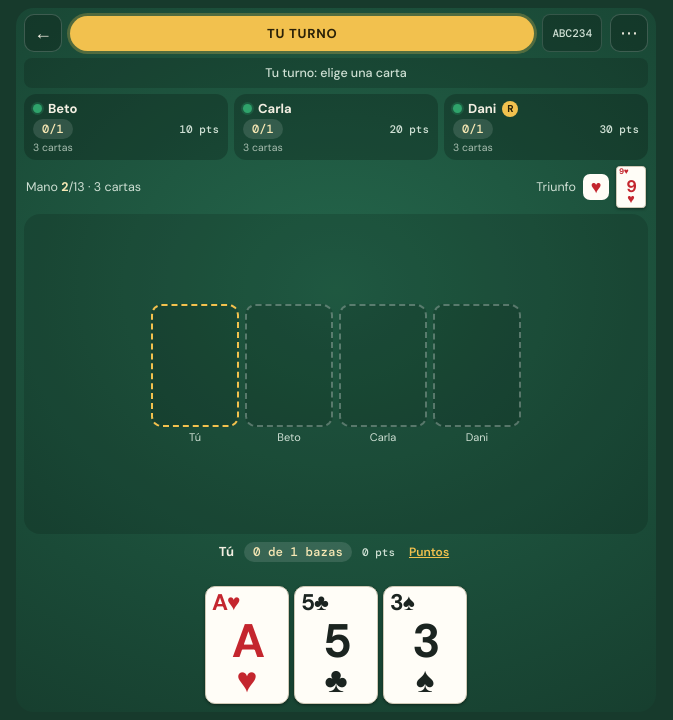
Scenario: mesa: menú, reglas, sonido y puntuación › el interruptor de sonido cambia entre activado y desactivado
Click the button named "Más opciones": click(629, 33) 610,14 -> 648,52
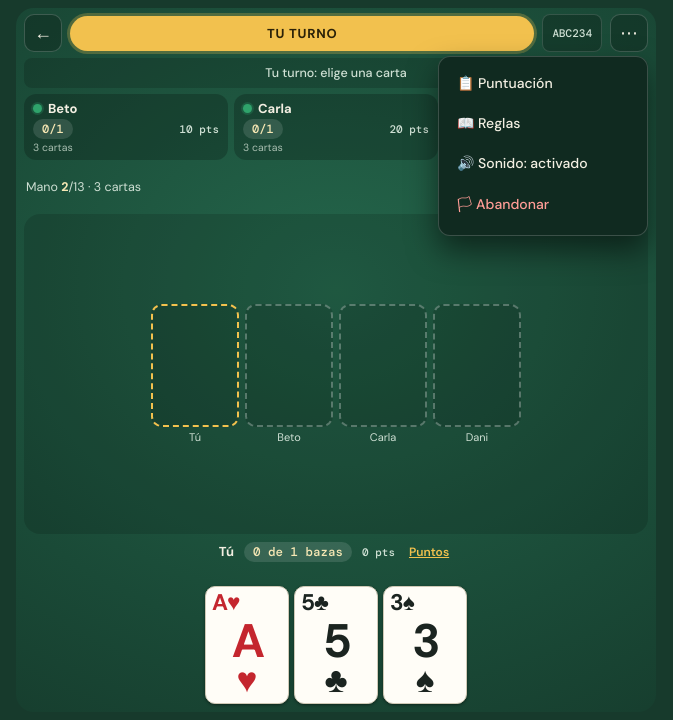
Check: the button "🔊 Sonido: activado" is shown
Click the button "🔊 Sonido: activado": click(543, 163) 445,143 -> 641,183
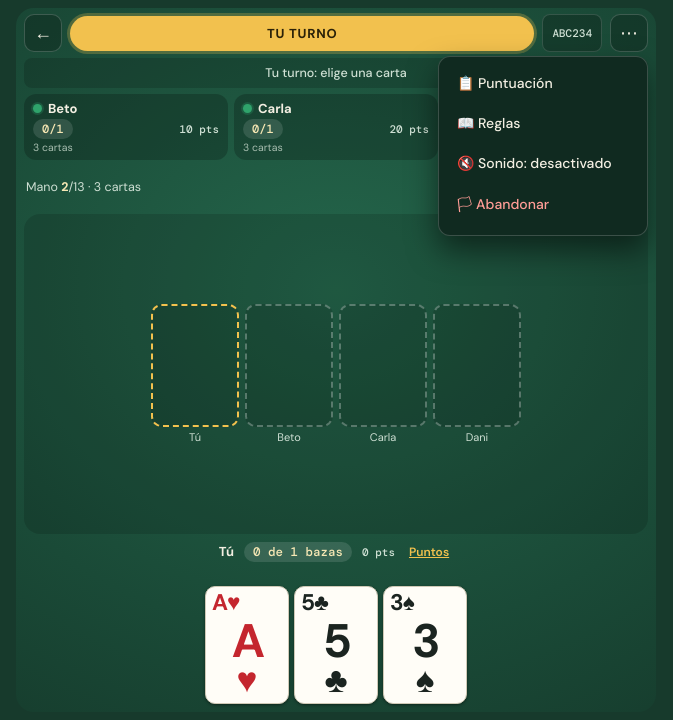
Check: the button "🔇 Sonido: desactivado" is shown
Click the button "🔇 Sonido: desactivado": click(543, 163) 445,143 -> 641,183
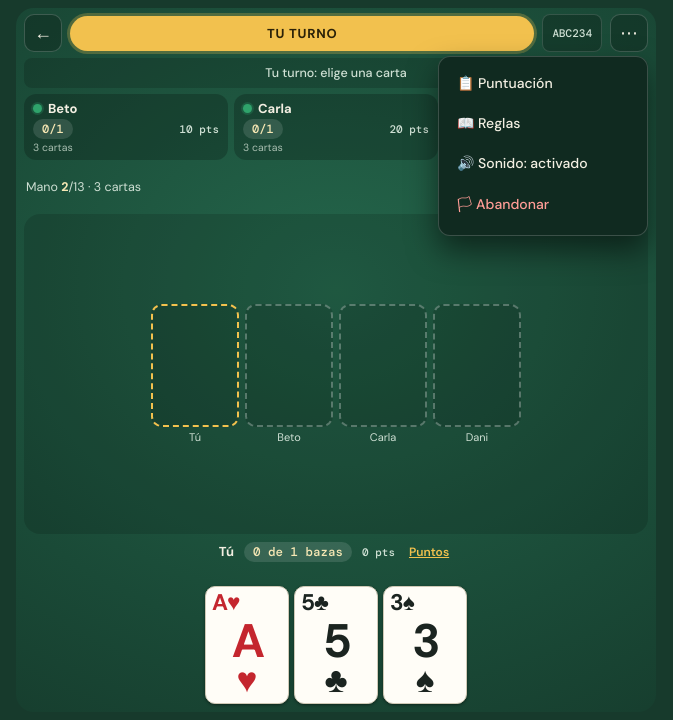
Check: the button "🔊 Sonido: activado" is shown, box 445,143 -> 641,183
